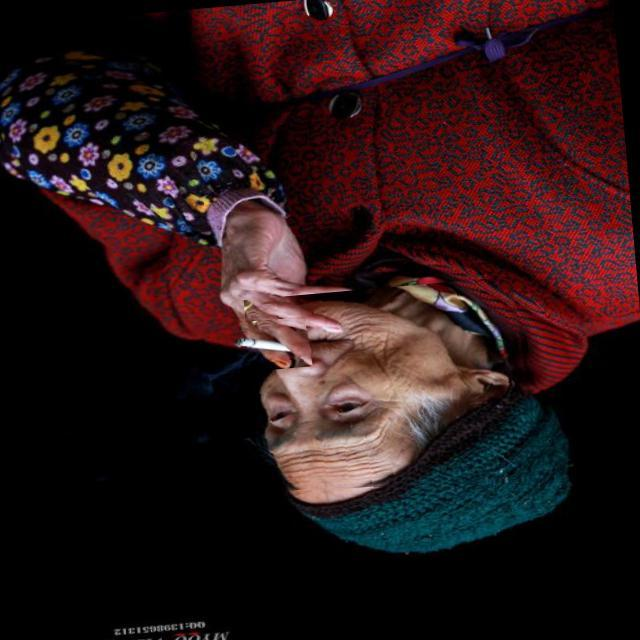cigarette: (202, 317, 312, 376)
